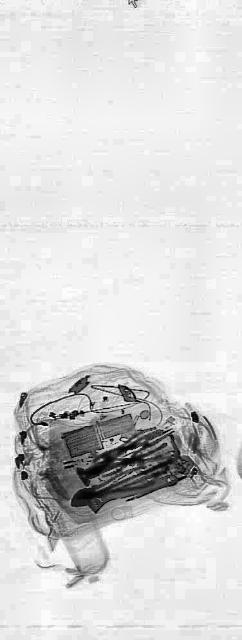Pliers: (99, 418, 167, 474)
Wrench: (70, 464, 178, 518)
